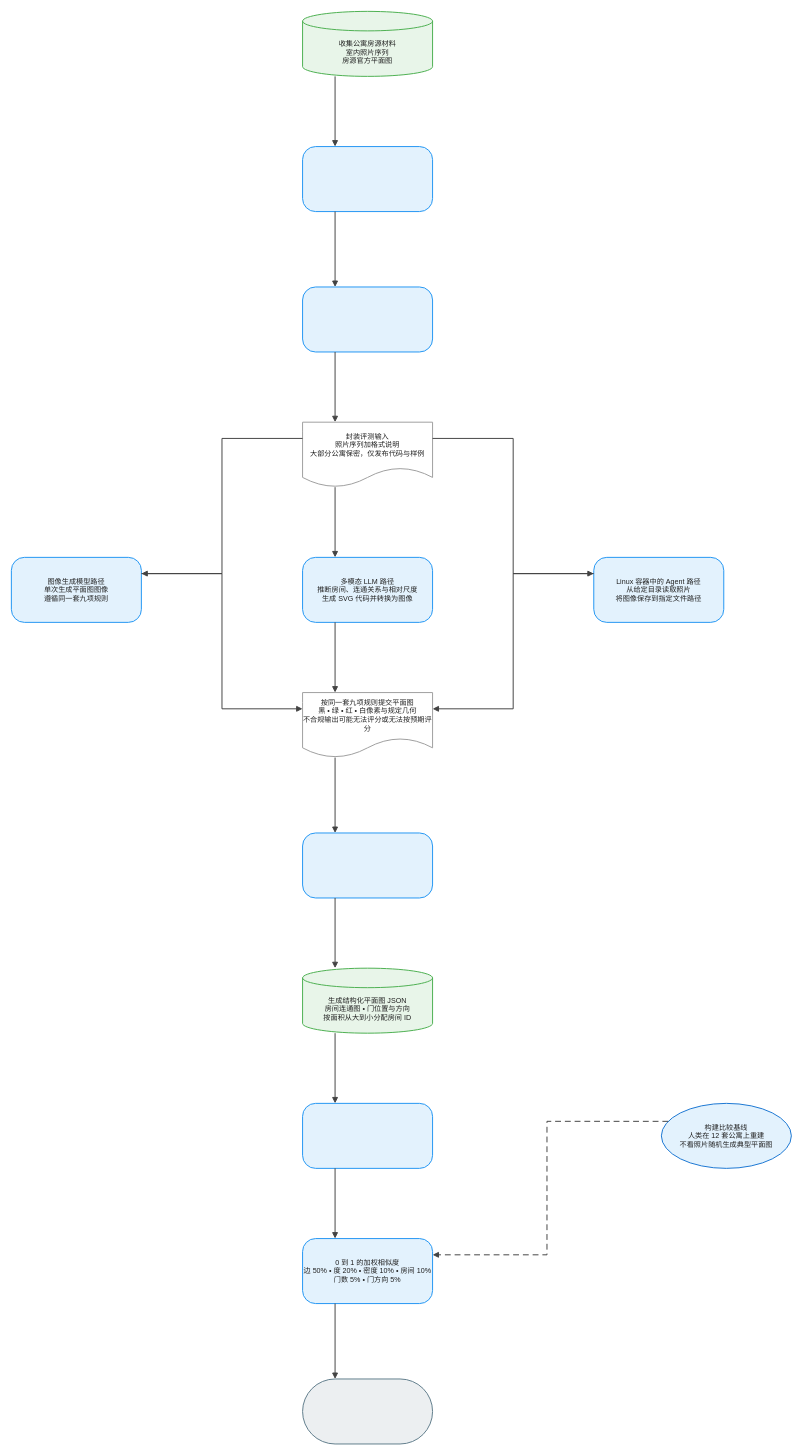
This 803x1456 diagram has some shape labels left out. The shapes that lost their labels are listed below. From the top down, each one's centre as x and y in pixels, then its label:
(367,179): 选取 50 套公寓 每套约 20 张室内照片 改编官方平面图作为金标准
(367,319): 标准化金标准平面图 九项绘制规则 黑墙 • 绿门 • 红色房间中心 • 白底
(367,865): 确定性抽取空间结构 HSV 红点检测 • Flood-Fill 房间分割 绿门扫描 • 面积与大小排序
(367,1136): 计算六项相似度 边 Jaccard • 度相关 • 图密度 房间数 • 门数 • 门方向
(367,1411): 比较 LLM、图像模型、Agent 与基线 跨 50 套公寓汇总结果 更新公开空间智能排行榜
